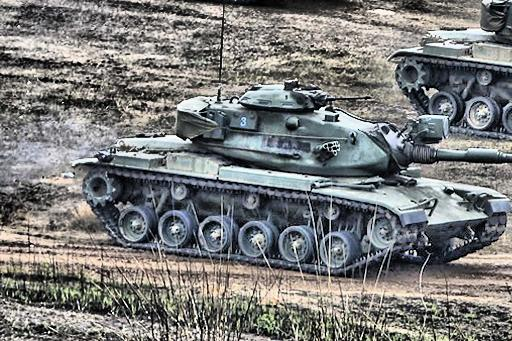tanks: (75, 82, 512, 276), (393, 1, 512, 140), (214, 1, 262, 5)
